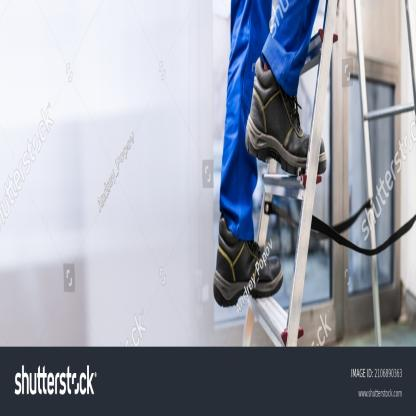bota: (243, 52, 328, 177), (212, 213, 285, 312)
